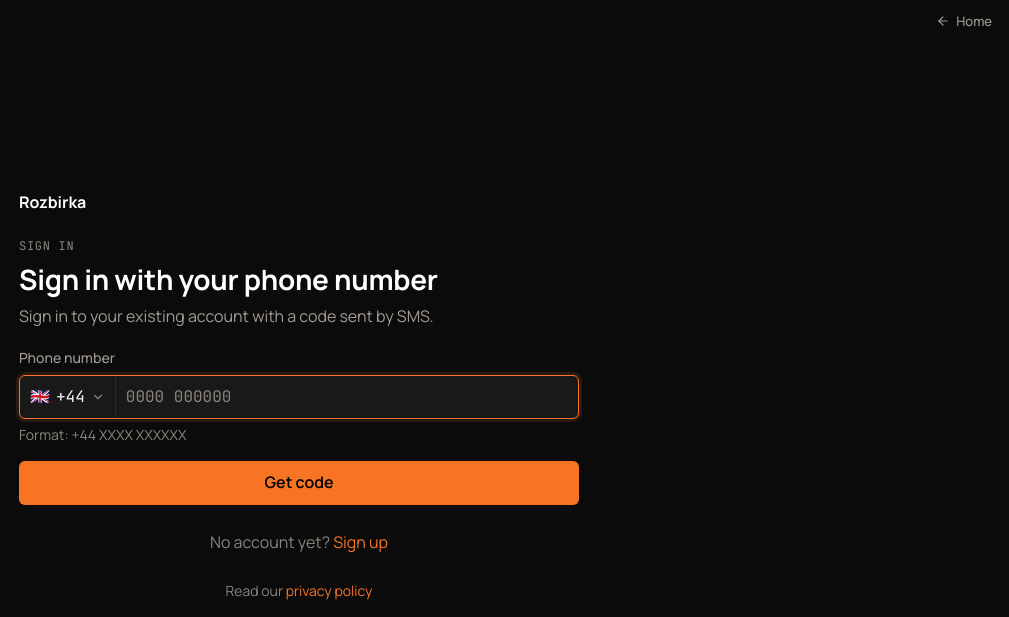
Test: signs in a British number in English without rewriting it to +380
Expected: the heading "Sign in with your phone number" is shown, [19,260,438,298]
Type "07700 900123" into the field labelled "Phone number" at coordinates (347, 396), box [116,376,578,418]
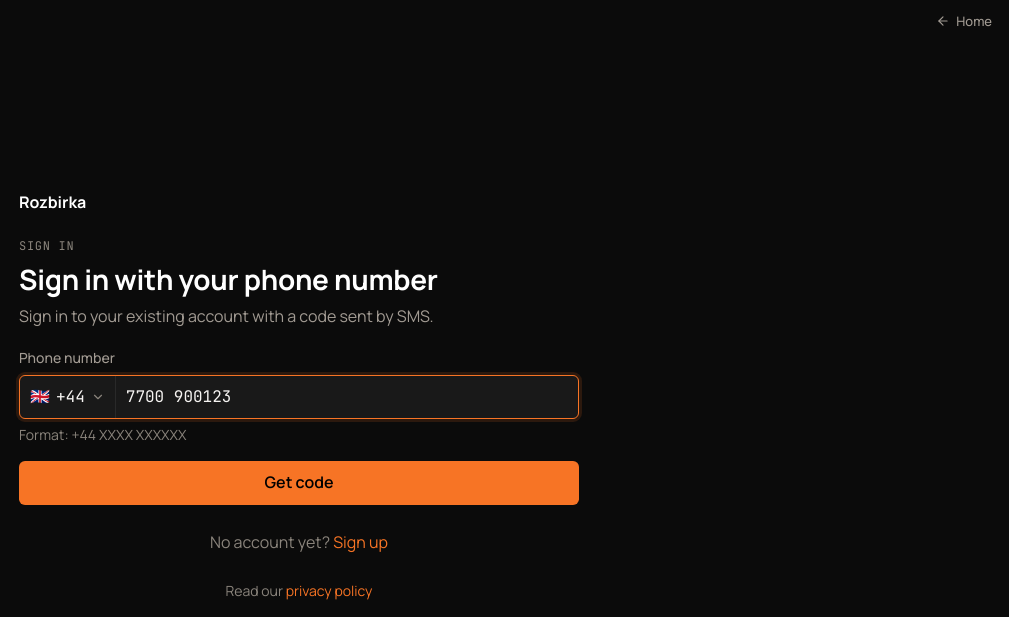
Expected: the field labelled "Phone number" holds "7700 900123", [116,376,578,418]
Click the button "Get code" at coordinates (299, 483), box [19,461,579,505]
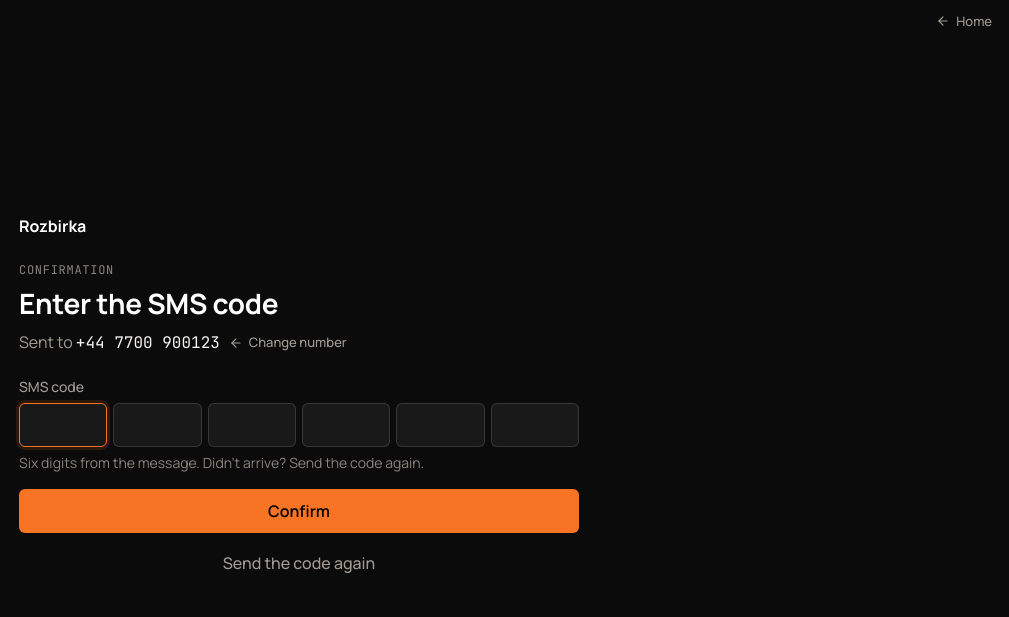
Expected: the text "+44 7700 900123" is shown, [76,332,220,353]
